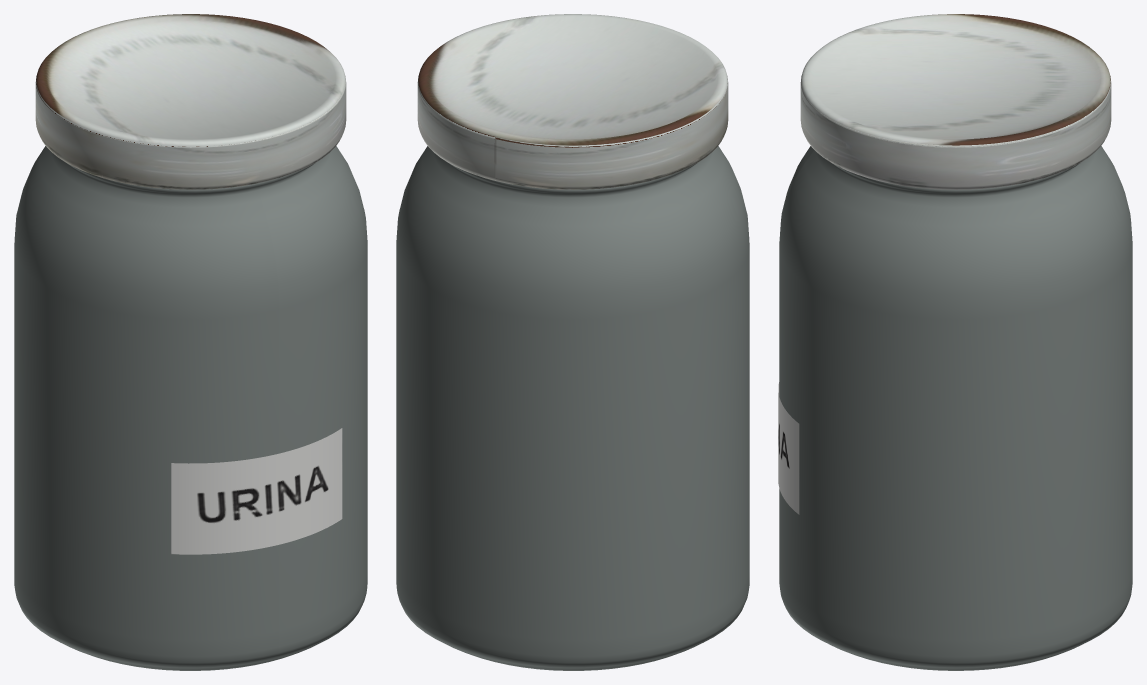
File: urina_12_09_web.glb
3 views of the same model, side by side, from view 1: azimuth 30°, elevation 25°; view 2: azimuth 150°, elevation 25°; view 3: azimuth 270°, elevation 25° (orthographic).
Parts seen in each view (by area): view 1: Vidro_Pote_Urina, Tampa_Pote_Urina, Rotulo_Pote_Urina; view 2: Vidro_Pote_Urina, Tampa_Pote_Urina; view 3: Vidro_Pote_Urina, Tampa_Pote_Urina, Rotulo_Pote_Urina.
Boxes of the visible parts, x1,y1,x2,y2 form: Vidro_Pote_Urina: (14,146,367,670); Tampa_Pote_Urina: (35,14,346,189); Rotulo_Pote_Urina: (171,428,342,554); Vidro_Pote_Urina: (396,146,749,670); Tampa_Pote_Urina: (417,14,728,189); Vidro_Pote_Urina: (779,146,1132,670); Tampa_Pote_Urina: (800,14,1111,189); Rotulo_Pote_Urina: (778,382,799,514).
Size of the model in its own units: 0.082 by 0.1353 by 0.0822.
5 materials, 2 textured.
